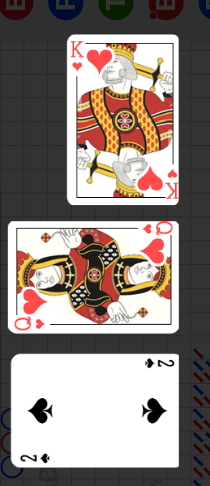2S: (142, 357, 175, 370)
KH: (69, 39, 85, 73), (165, 167, 179, 201)
